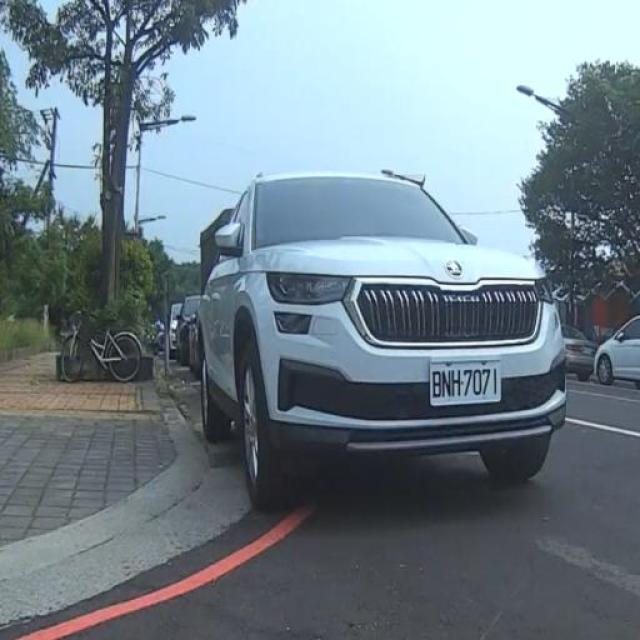illegalparking: (165, 162, 604, 538)
